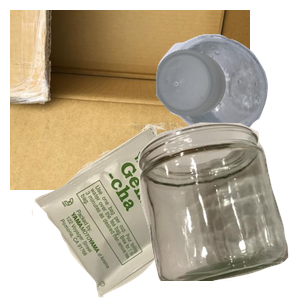cardboard: (10, 10, 250, 190)
glass: (135, 120, 300, 300)
plastic: (153, 31, 300, 161)
trash: (29, 124, 238, 300)
